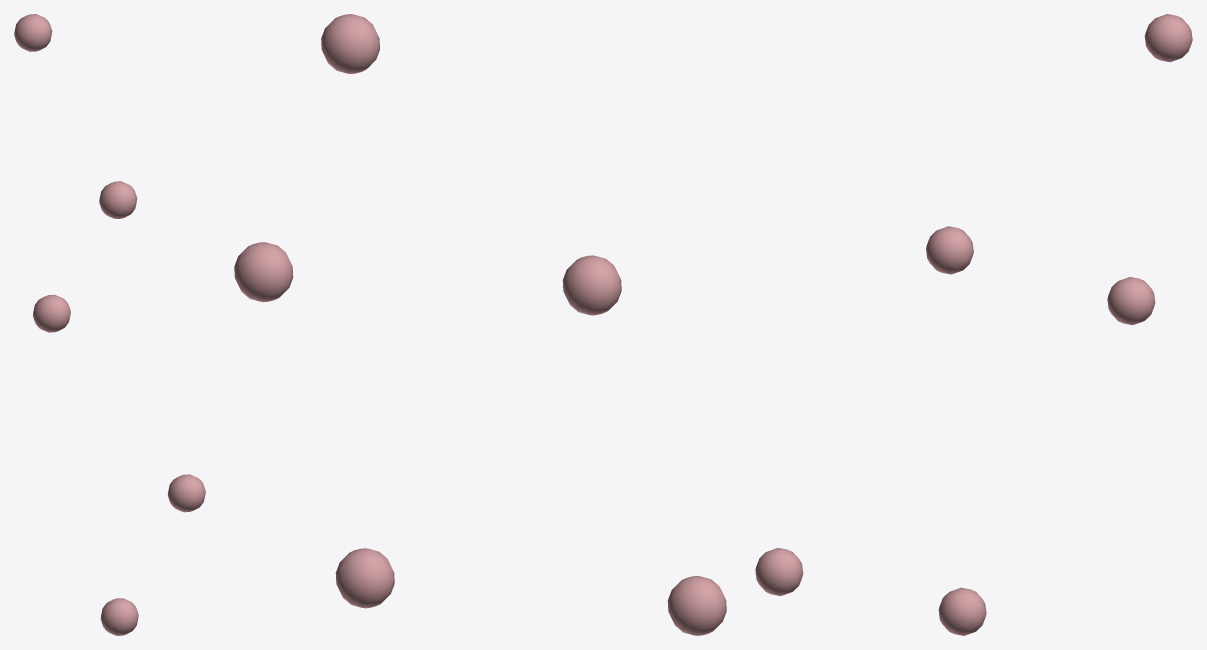
3 views of the same model, side by side, from view 1: azimuth 30°, elevation 25°; view 2: azimuth 150°, elevation 25°; view 3: azimuth 270°, elevation 25° (orthographic). The views are drawn at different scales.
Parts seen in each view (by area): view 1: ZA_7c07b52a9ccfc445; view 2: ZA_7c07b52a9ccfc445; view 3: ZA_7c07b52a9ccfc445.
Boxes of the visible parts, box(x1,y1,x2,y2) form: ZA_7c07b52a9ccfc445: box(14, 14, 205, 635); ZA_7c07b52a9ccfc445: box(234, 14, 726, 635); ZA_7c07b52a9ccfc445: box(755, 14, 1192, 635).
Bounding box in the file's own units: 0.0135 × 0.0366 × 0.0234.
